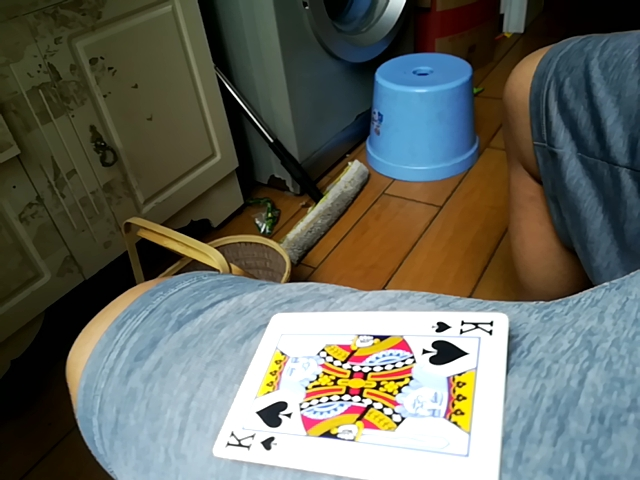ht k: (210, 303, 512, 479)
